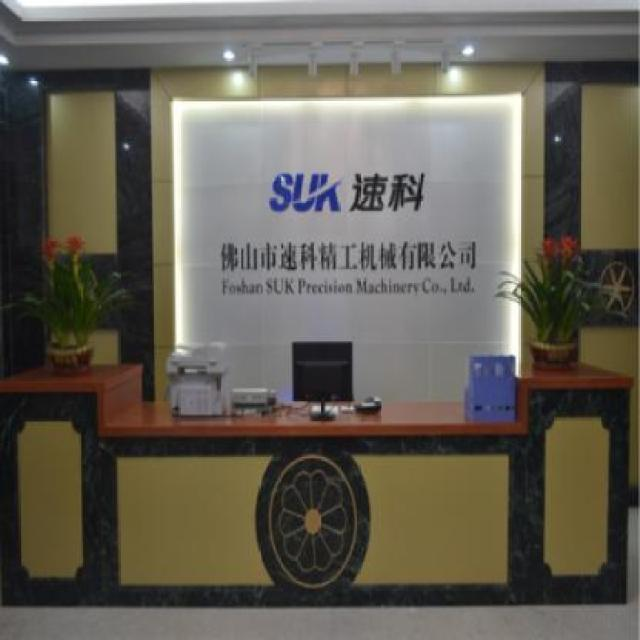frontdesk: (0, 337, 640, 614)
